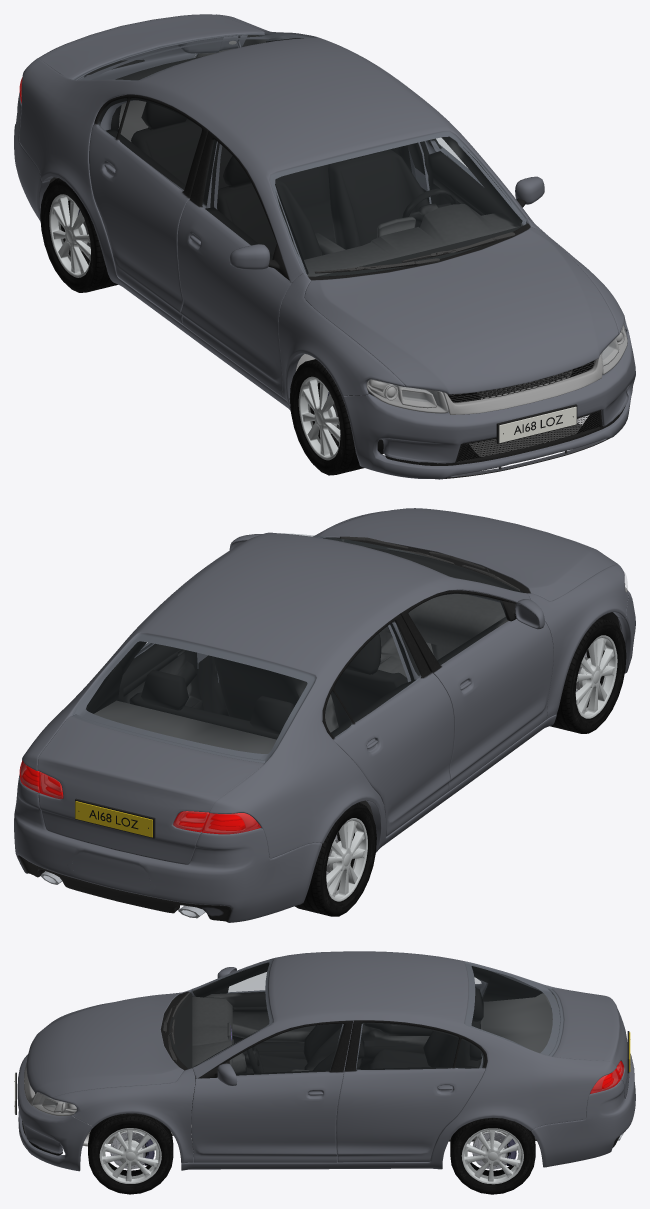
The model's file is mmc-sedan-ai68.glb.
3 views of the same model, one above another, from view 1: azimuth 30°, elevation 25°; view 2: azimuth 150°, elevation 25°; view 3: azimuth 270°, elevation 25° (orthographic). The views are drawn at different scales.
Visible parts, largest first — view 1: sedan-static-material-batches, trial-generic-tire-low.001, trial-generic-tire-low.003, trial-generic-wheel.003, trial-generic-wheel.001; view 2: sedan-static-material-batches, trial-generic-tire-low.001, trial-generic-tire-low.003, trial-generic-wheel.001, trial-generic-wheel.003; view 3: sedan-static-material-batches, trial-generic-tire-low, trial-generic-tire-low.002, trial-generic-wheel.002, trial-generic-wheel, trial-brake-disc-front-l, trial-brake-disc-rear-l.
Boxes of the visible parts, bbox=[...] form: sedan-static-material-batches: bbox=[14, 14, 635, 479]; trial-generic-tire-low.001: bbox=[289, 359, 363, 475]; trial-generic-tire-low.003: bbox=[40, 178, 117, 292]; trial-generic-wheel.003: bbox=[49, 194, 90, 277]; trial-generic-wheel.001: bbox=[298, 376, 340, 460]; sedan-static-material-batches: bbox=[14, 508, 635, 922]; trial-generic-tire-low.001: bbox=[550, 617, 626, 733]; trial-generic-tire-low.003: bbox=[295, 802, 376, 916]; trial-generic-wheel.001: bbox=[575, 635, 617, 718]; trial-generic-wheel.003: bbox=[326, 818, 367, 901]; sedan-static-material-batches: bbox=[14, 951, 635, 1171]; trial-generic-tire-low: bbox=[88, 1113, 173, 1194]; trial-generic-tire-low.002: bbox=[450, 1118, 535, 1194]; trial-generic-wheel.002: bbox=[461, 1128, 523, 1184]; trial-generic-wheel: bbox=[99, 1128, 161, 1183]; trial-brake-disc-front-l: bbox=[110, 1131, 145, 1169]; trial-brake-disc-rear-l: bbox=[472, 1131, 507, 1169].
Bounding box in the file's own units: 2.1 × 1.5 × 5.01.
Materials: 27 (10 with a texture image).
